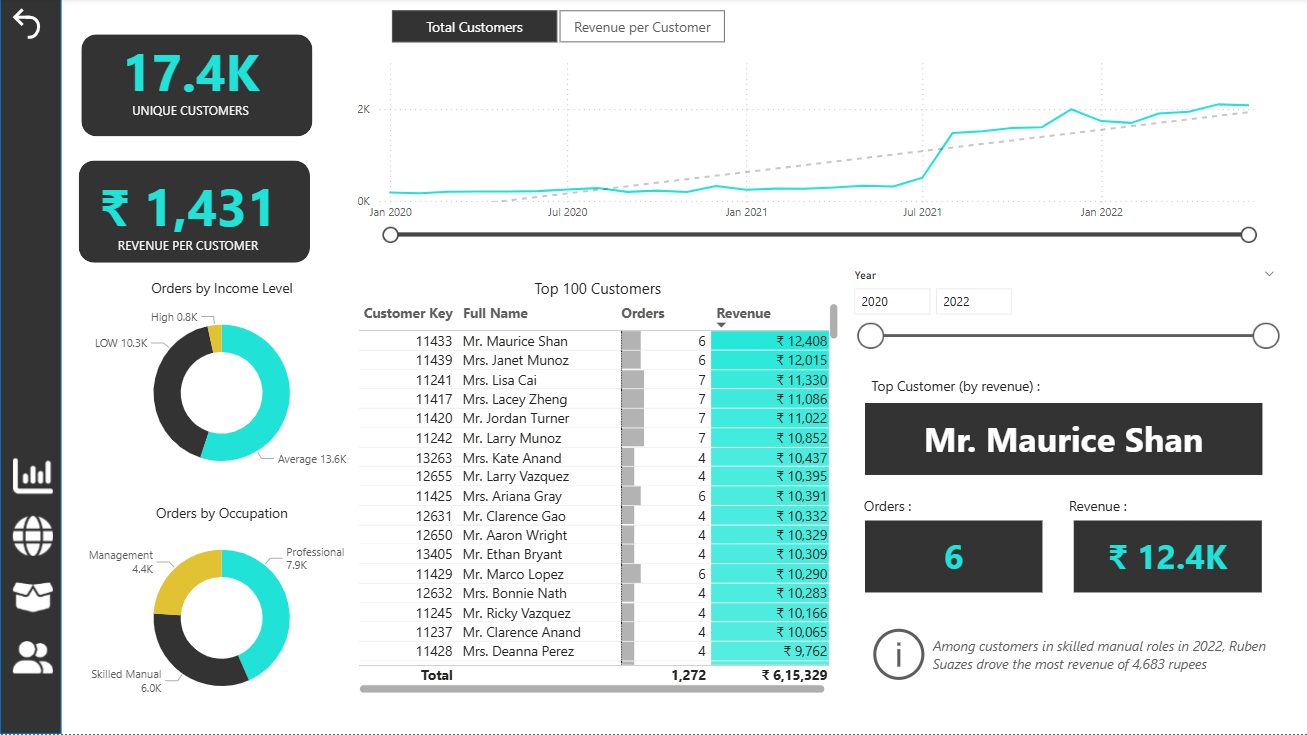

What the dashboard file says about the page in this screenshot:
{"tool":"powerbi","page":{"name":"Customer Detail","canvas":[1280,720],"ordinal":3},"visuals":[{"type":"shape","box":[0,0,60,720],"z":0},{"type":"shape","box":[80,36,226.2,100],"z":1000},{"type":"actionButton","box":[8.8,503,70,47.5],"z":1000,"group":"g1"},{"type":"actionButton","box":[8.8,443.8,70,47.5],"z":2000,"group":"g1"},{"type":"shape","box":[77.2,159,226.2,100],"z":2000},{"type":"card","fields":{"Values":["Measure Table.Total Customers"]},"box":[67.5,2.2,238.8,150],"z":3000},{"type":"actionButton","box":[8.8,562.1,70,47.5],"z":3000,"group":"g1"},{"type":"card","fields":{"Values":["Measure Table.Average Revenue per Customer"]},"box":[64.7,134,238.8,150],"z":4000},{"type":"actionButton","box":[8.8,621.3,70,47.5],"z":4000,"group":"g1"},{"type":"lineChart","fields":{"Y":["Measure Table.Total Customers"],"Category":["Calendar Lookup.Date Hierarchy.Start of Year","Calendar Lookup.Date Hierarchy.Start of Month","Calendar Lookup.Date Hierarchy.Start of Week","Calendar Lookup.Date Hierarchy.Date"]},"box":[345,50,902.5,192.5],"z":5000},{"type":"donutChart","title":"Orders by Income Level","fields":{"Category":["Customer Lookup.Income Level"],"Y":["Measure Table.Total Orders"]},"box":[77.5,273.8,280,207.5],"z":6000},{"type":"donutChart","title":"Orders by Occupation","fields":{"Y":["Measure Table.Total Orders"],"Category":["Customer Lookup.Occupation"]},"box":[77.5,493.8,280,207.5],"z":7000},{"type":"tableEx","title":"Top 100 Customers","fields":{"Values":["Customer Lookup.CustomerKey","Customer Lookup.Customer Full Name (CC)","Measure Table.Total Orders","Measure Table.Total Revenue"]},"box":[345,273.8,480,411.2],"z":8000},{"type":"card","fields":{"Values":["Customer Lookup.Customer Full Name (CC)"]},"box":[846,395.8,388.8,70],"z":9000},{"type":"card","fields":{"Values":["Measure Table.Total Revenue"]},"box":[1051,510.8,183.8,70],"z":10000},{"type":"card","fields":{"Values":["Measure Table.Total Orders"]},"box":[846,510.8,173.8,70],"z":11000},{"type":"textbox","box":[847.2,365.8,196.2,38.8],"z":12000},{"type":"textbox","box":[839.7,483.3,196.2,37.5],"z":13000},{"type":"textbox","box":[1041,483.3,191.2,37.5],"z":14000},{"type":"slicer","fields":{"Values":["Calendar Lookup.Year"]},"box":[822.5,258.8,436.2,107.5],"z":15000},{"type":"actionButton","box":[847.5,610,411.2,63.8],"z":16000},{"type":"actionButton","box":[6.2,5,48.8,40],"z":17000},{"type":"group","id":"g1","title":"Navigation Buttons","box":[8.8,443.8,70,225],"z":18000},{"type":"slicer","fields":{"Values":["Customer Metric Selection.Customer Metric Selection"]},"box":[357.5,5,376.2,45],"z":19001}]}

Visuals, with their boxes on the page's 1280x720 design canvas (x1, y1, x2, y2). These are canvas units, not pixel positions in the 1307x735 screenshot, which may show the page scaled, cropped or inside an application window:
shape: detection(0, 0, 60, 720)
shape: detection(80, 36, 306, 136)
actionButton: detection(9, 503, 79, 550)
actionButton: detection(9, 444, 79, 491)
shape: detection(77, 159, 303, 259)
card - Measure Table.Total Customers: detection(68, 2, 306, 152)
actionButton: detection(9, 562, 79, 610)
card - Measure Table.Average Revenue per Customer: detection(65, 134, 304, 284)
actionButton: detection(9, 621, 79, 669)
lineChart - Measure Table.Total Customers x Calendar Lookup.Date Hierarchy.Start of Year: detection(345, 50, 1248, 242)
"Orders by Income Level" donutChart: detection(78, 274, 358, 481)
"Orders by Occupation" donutChart: detection(78, 494, 358, 701)
"Top 100 Customers" tableEx: detection(345, 274, 825, 685)
card - Customer Lookup.Customer Full Name (CC): detection(846, 396, 1235, 466)
card - Measure Table.Total Revenue: detection(1051, 511, 1235, 581)
card - Measure Table.Total Orders: detection(846, 511, 1020, 581)
textbox: detection(847, 366, 1043, 405)
textbox: detection(840, 483, 1036, 521)
textbox: detection(1041, 483, 1232, 521)
slicer - Calendar Lookup.Year: detection(822, 259, 1259, 366)
actionButton: detection(848, 610, 1259, 674)
actionButton: detection(6, 5, 55, 45)
"Navigation Buttons" group: detection(9, 444, 79, 669)
slicer - Customer Metric Selection.Customer Metric Selection: detection(358, 5, 734, 50)
